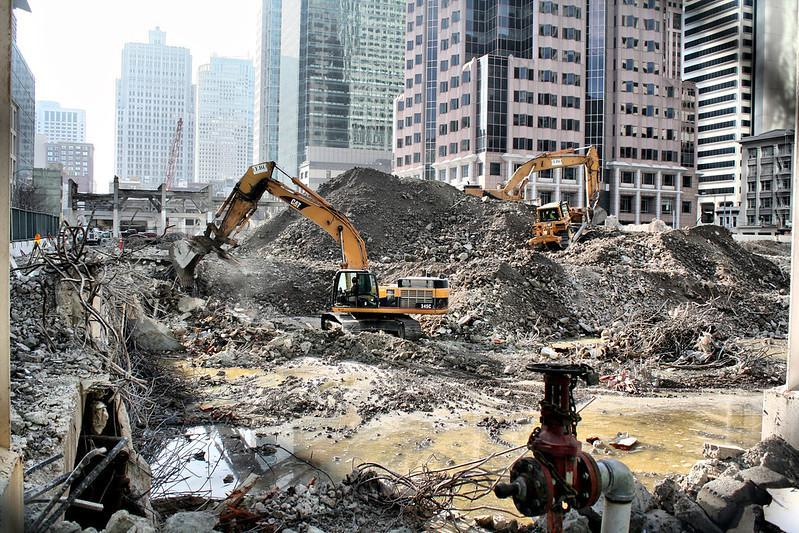EXCAVATORS: (171, 159, 451, 344), (466, 143, 610, 228)
